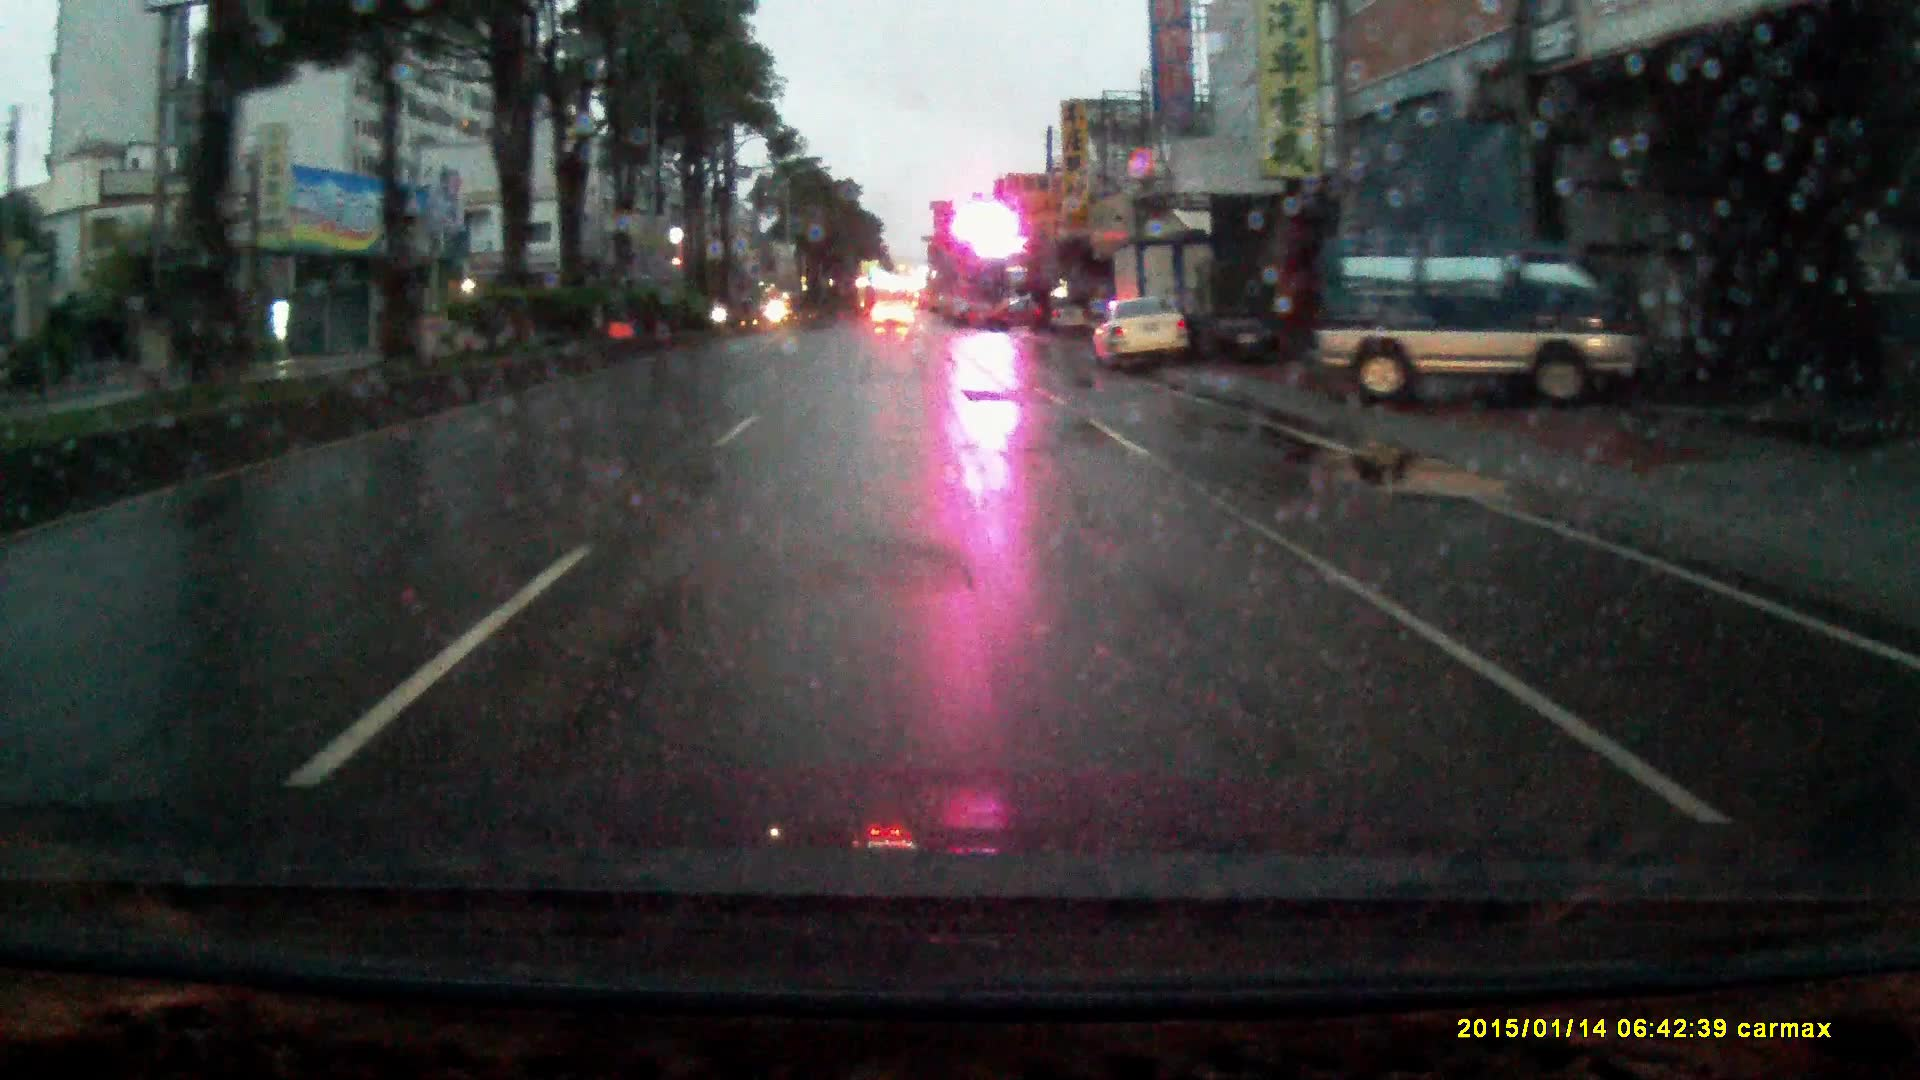vehicle: (1308, 227, 1648, 407), (1106, 232, 1229, 367), (1093, 294, 1197, 369), (972, 293, 1043, 332), (1036, 295, 1091, 336), (876, 294, 910, 328)
